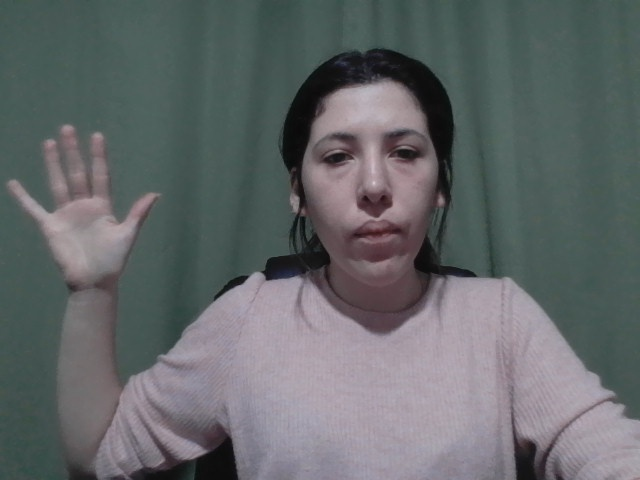HOLA: (3, 123, 169, 317)
